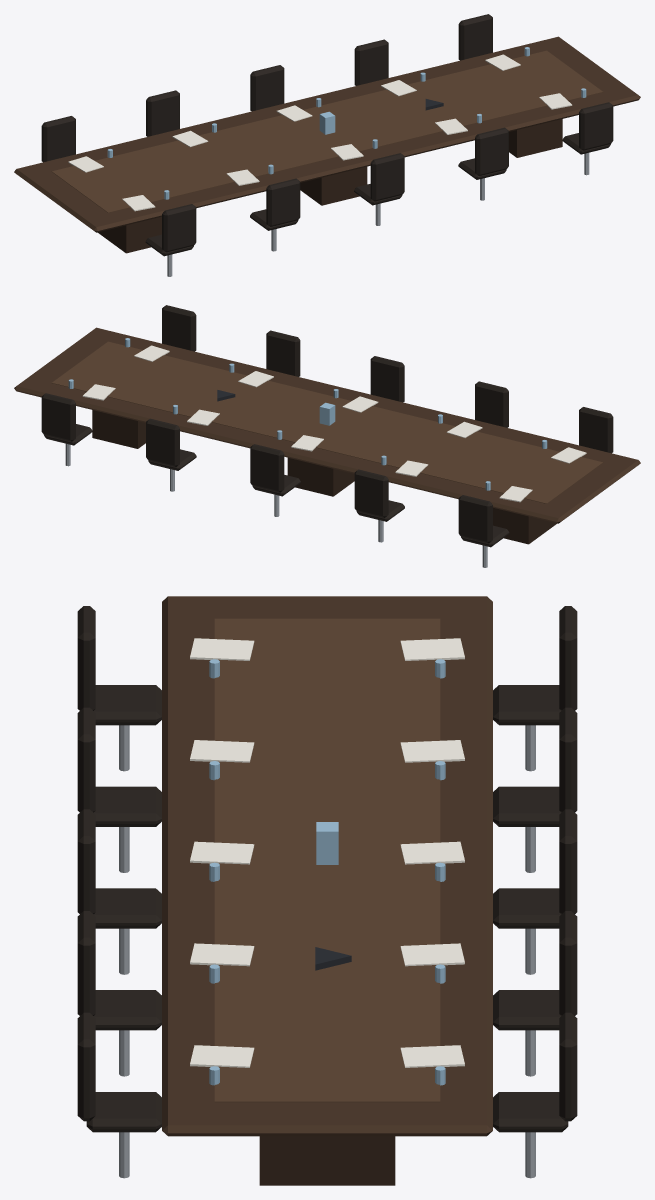
File: boardroom_table.glb
The picture shows the model from 3 angles, top to bottom: view 1: azimuth 30°, elevation 25°; view 2: azimuth 150°, elevation 25°; view 3: azimuth 270°, elevation 25°; orthographic projection. The views are drawn at different scales.
Parts seen in each view (by area): view 1: boardroom_table_mesh; view 2: boardroom_table_mesh; view 3: boardroom_table_mesh.
Boxes of the visible parts, box(x1,y1,x2,y2) form: boardroom_table_mesh: box(14, 14, 640, 276); boardroom_table_mesh: box(14, 305, 640, 567); boardroom_table_mesh: box(77, 596, 577, 1185).
Bounding box in the file's own units: 8.4 × 1.1 × 3.32.
